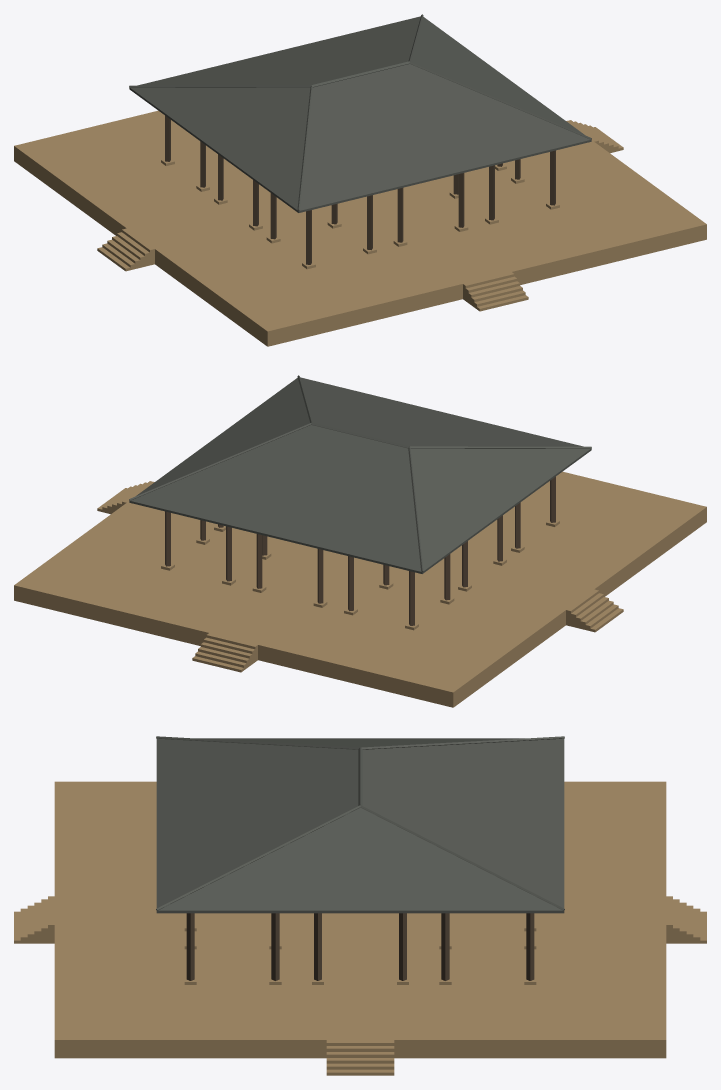
Rendered from biyong-A-LOD2.glb.
3 renders of one model, top to bottom at view 1: azimuth 30°, elevation 25°; view 2: azimuth 150°, elevation 25°; view 3: azimuth 270°, elevation 25°, orthographic. The views are drawn at different scales.
Parts seen in each view (by area): view 1: biyong-A-static_earth, biyong-A-static_tile, biyong-A-static_timber; view 2: biyong-A-static_earth, biyong-A-static_tile, biyong-A-static_timber; view 3: biyong-A-static_earth, biyong-A-static_tile, biyong-A-static_timber.
Part boxes in pixels (x1,y1,x2,y2): biyong-A-static_earth: (14, 110, 706, 346); biyong-A-static_tile: (129, 14, 591, 212); biyong-A-static_timber: (165, 115, 555, 264); biyong-A-static_earth: (14, 471, 706, 707); biyong-A-static_tile: (129, 375, 591, 573); biyong-A-static_timber: (165, 476, 555, 625); biyong-A-static_earth: (14, 781, 706, 1075); biyong-A-static_tile: (156, 736, 564, 913); biyong-A-static_timber: (186, 913, 534, 980).
Size of the model in its own units: 40.8 by 9.96 by 40.8.
